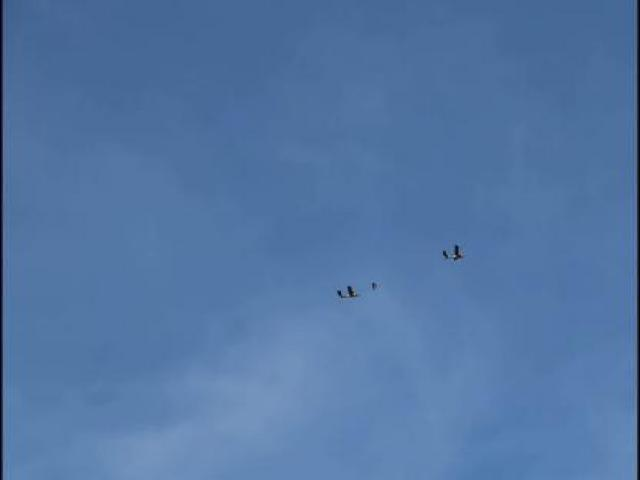uav: (441, 242, 465, 263), (334, 282, 358, 301)
